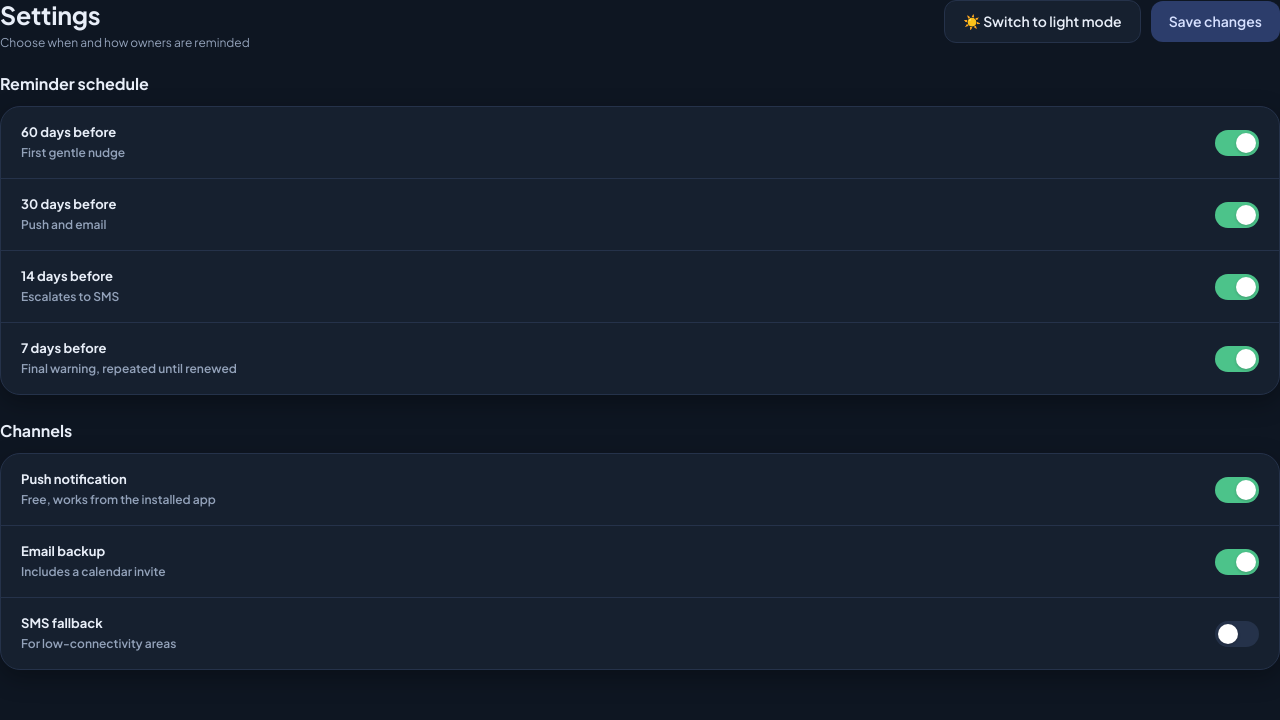
it: SettingsPage Controls & Interactions › displays saved-state visual feedback after clicking save changes
Click the button "Save changes" at (1215, 22), box [1151,1,1279,42]
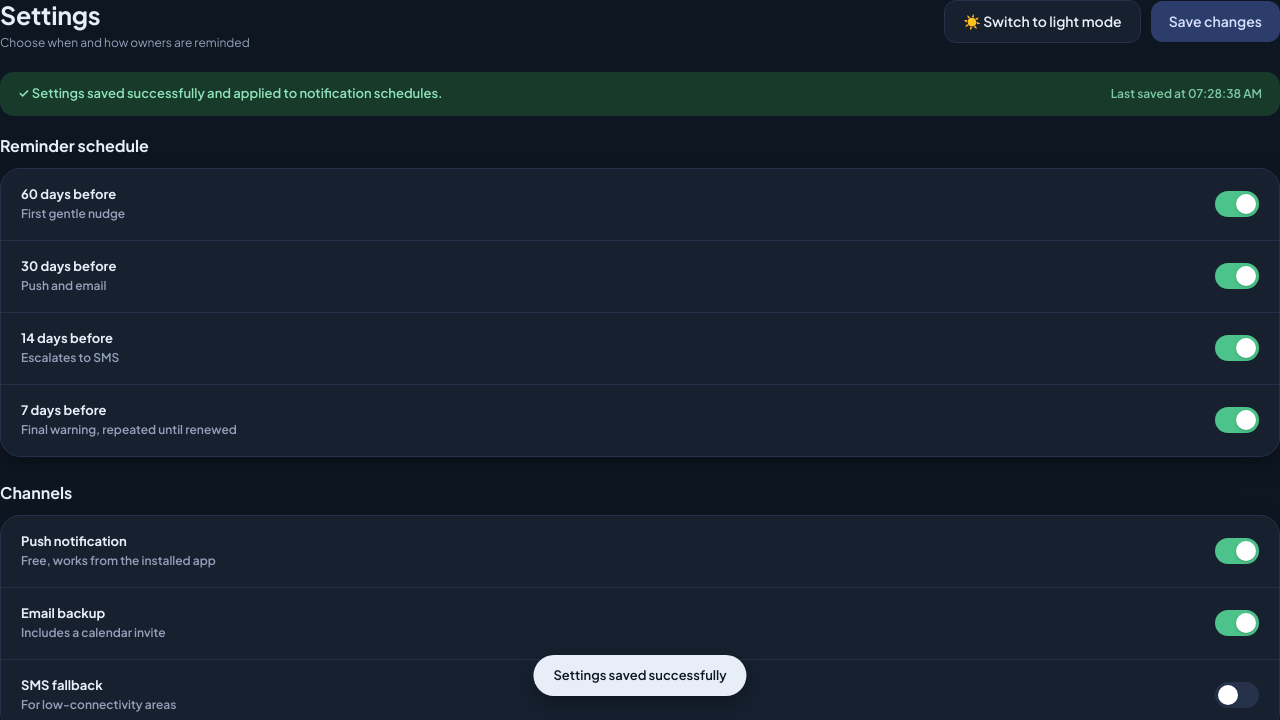
Now the text "Settings saved successfully and applied to notification schedules" is shown, box [18,85,443,101]
